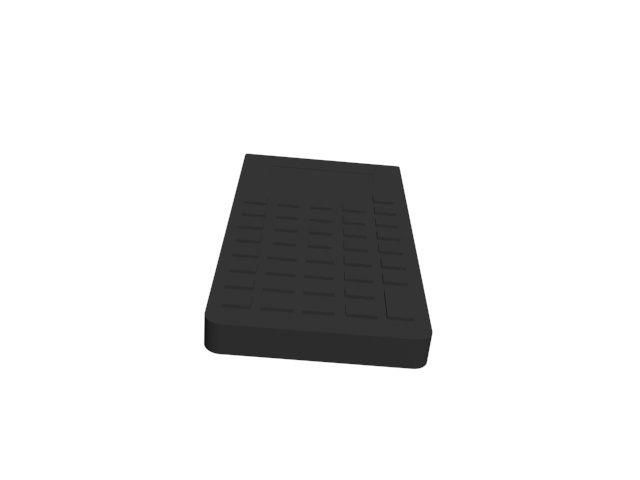calculator: (201, 153, 439, 376)
